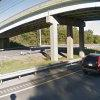Car: (80, 48, 99, 81)
